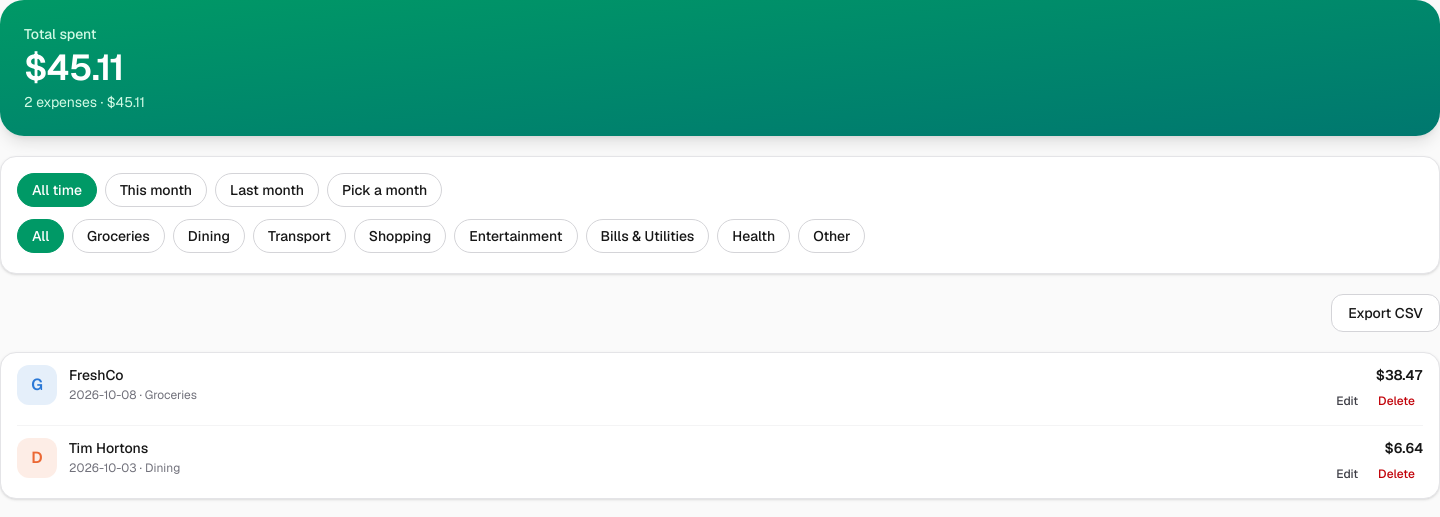
Test case: removes a row after the user confirms the delete
Click the button with aria-label "Delete FreshCo".
click(1397, 401)  # box [1370,389,1423,413]
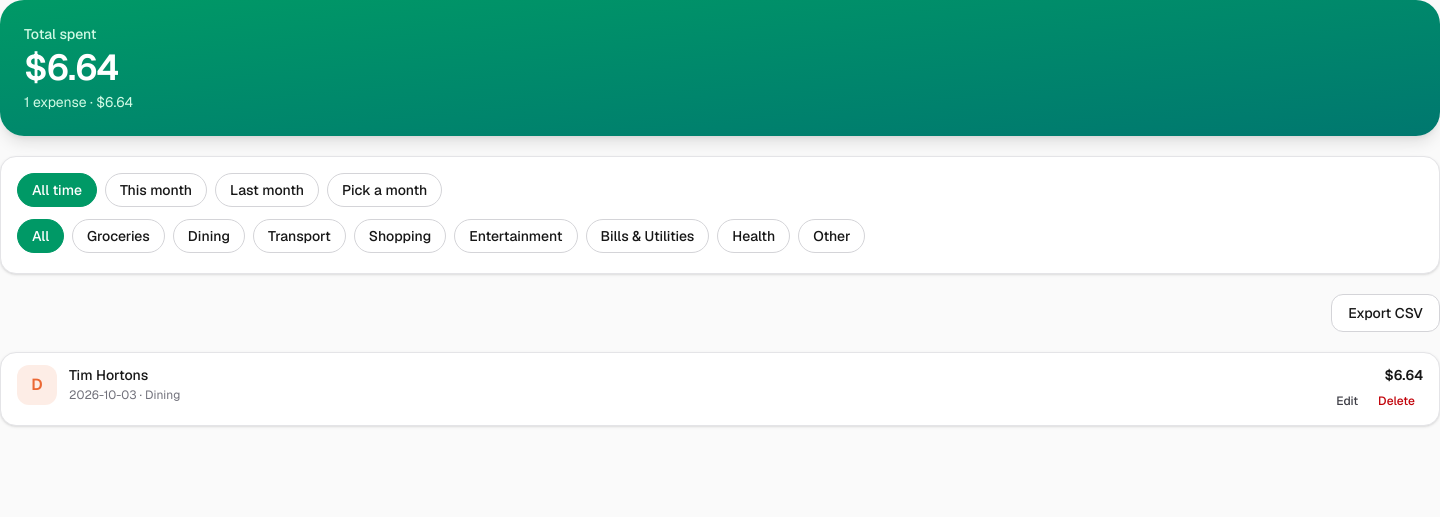
Result: the text "1 expense · $6.64" is shown at [24,93,133,111]
Result: the text "FreshCo" is gone
